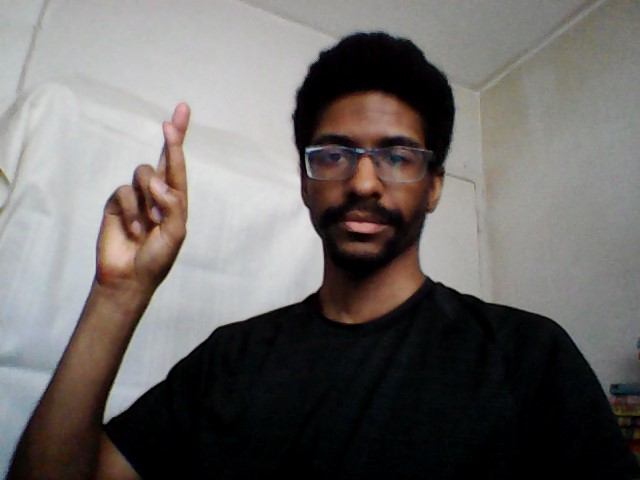r: (91, 98, 197, 303)
